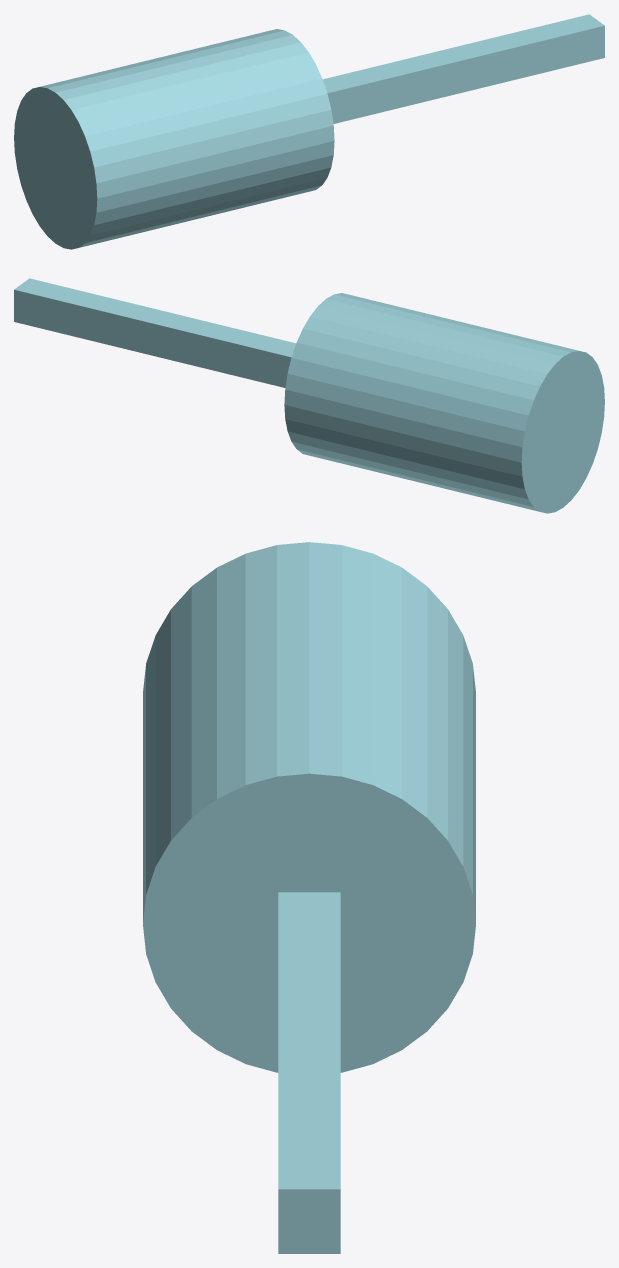
The model's file is cylinder_screwdriver_v3015.obj.
3 views of the same model, one above another, from view 1: azimuth 30°, elevation 25°; view 2: azimuth 150°, elevation 25°; view 3: azimuth 270°, elevation 25° (orthographic). The views are drawn at different scales.
Bounding box in the file's own units: 0.2348 × 0.0626 × 0.0626.
1 material, 1 textured.
